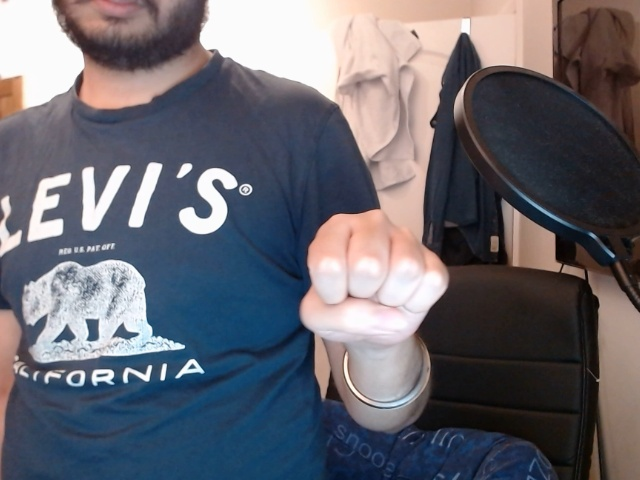Yes: (277, 207, 462, 349)
